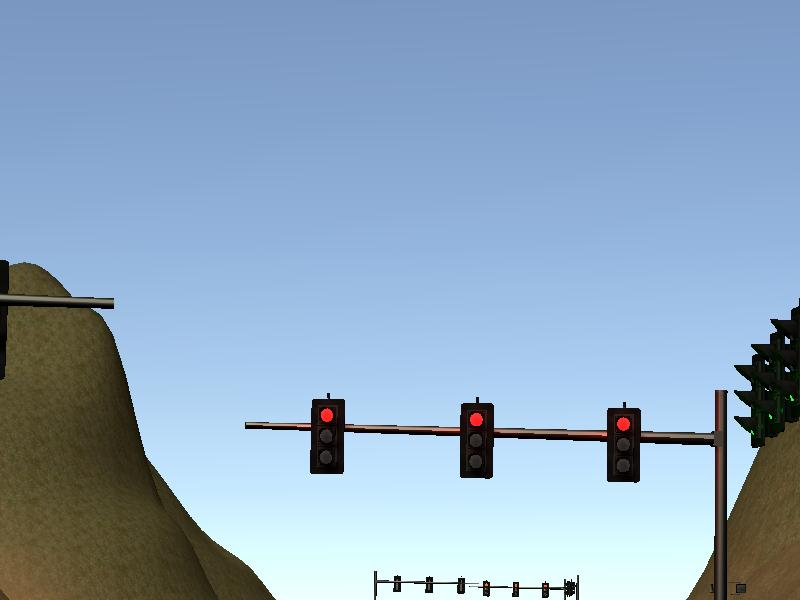Red: (311, 398, 345, 474), (605, 408, 640, 481), (462, 403, 494, 477)
